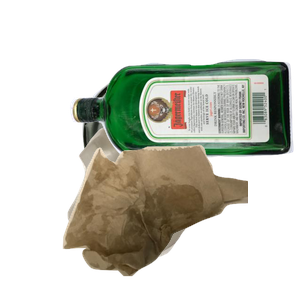glass: (67, 56, 300, 206)
metal: (80, 68, 284, 248)
plastic: (65, 123, 257, 300)
trash: (60, 142, 300, 300)
